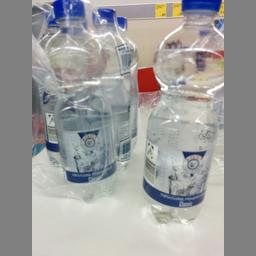water: (143, 0, 222, 223), (46, 0, 116, 202)
